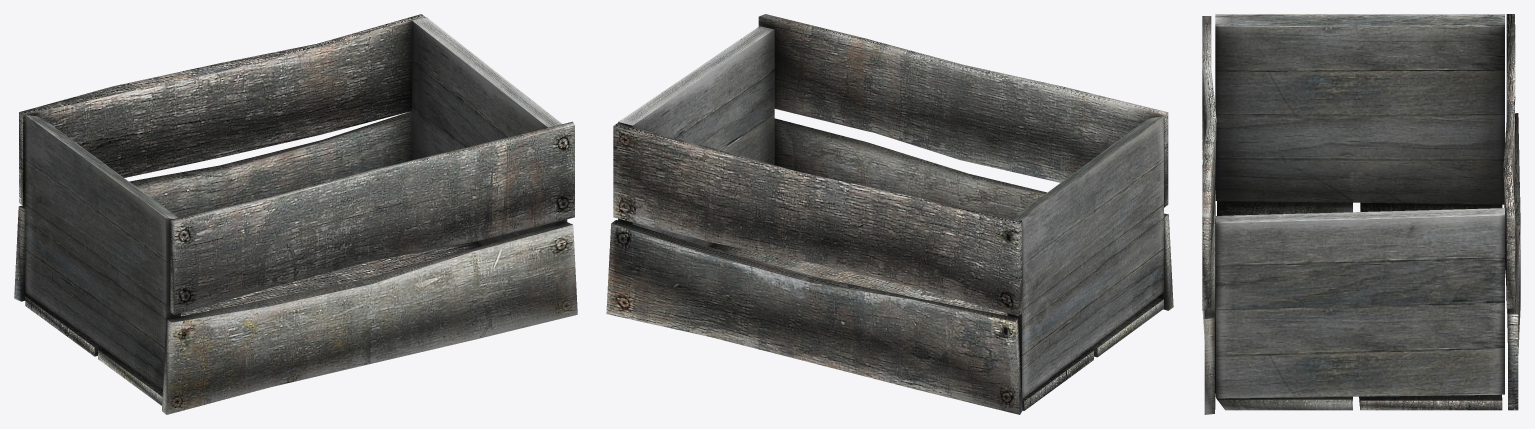
Rendered from crate.dae.
3 views of the same model, side by side, from view 1: azimuth 30°, elevation 25°; view 2: azimuth 150°, elevation 25°; view 3: azimuth 270°, elevation 25° (orthographic). The views are drawn at different scales.
Visible parts, largest first — view 1: Caixa; view 2: Caixa; view 3: Caixa.
Boxes of the visible parts, box(x1,y1,x2,y2) form: Caixa: box(14, 14, 577, 414); Caixa: box(606, 14, 1173, 414); Caixa: box(1202, 14, 1520, 414).
Size of the model in its own units: 2.22 by 1.45 by 1.02.
Materials: 1 (1 with a texture image).
